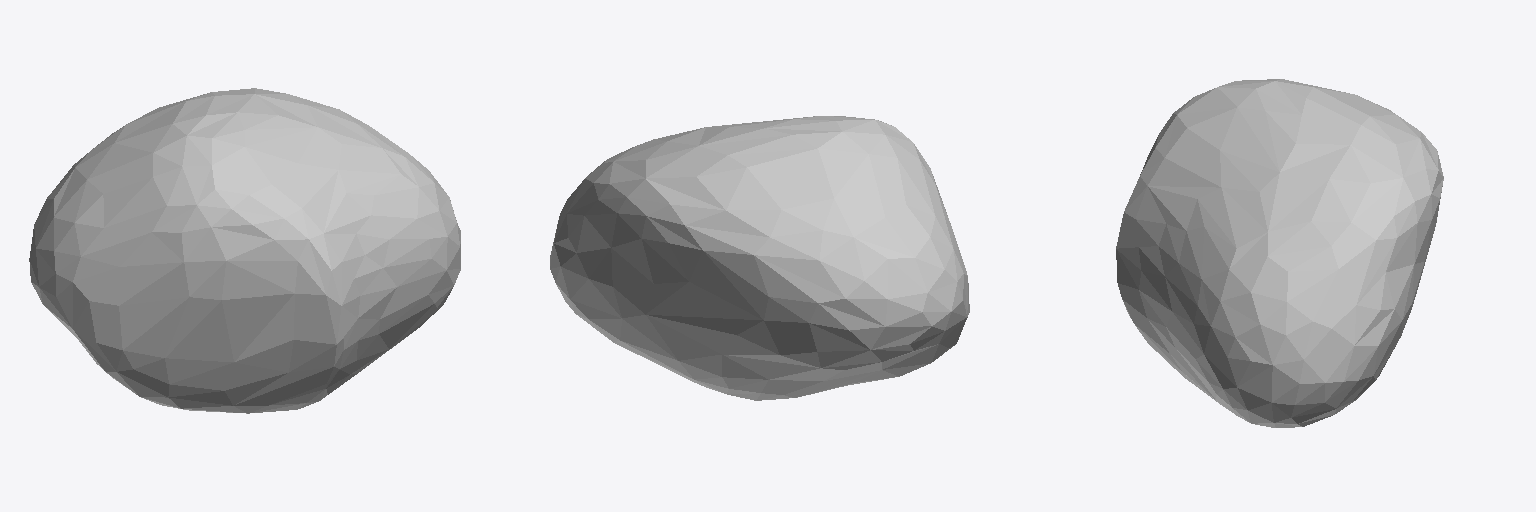
File: boltsi.obj
3 renders of one model, left to right at view 1: azimuth 30°, elevation 25°; view 2: azimuth 150°, elevation 25°; view 3: azimuth 270°, elevation 25°, orthographic.
Parts seen in each view (by area): view 1: Icosphere; view 2: Icosphere; view 3: Icosphere.
Part boxes in pixels (bbox=[...]): Icosphere: bbox=[29, 88, 460, 413]; Icosphere: bbox=[550, 116, 969, 400]; Icosphere: bbox=[1116, 79, 1443, 427].
Bounding box in the file's own units: 5.48 × 3.66 × 3.88.